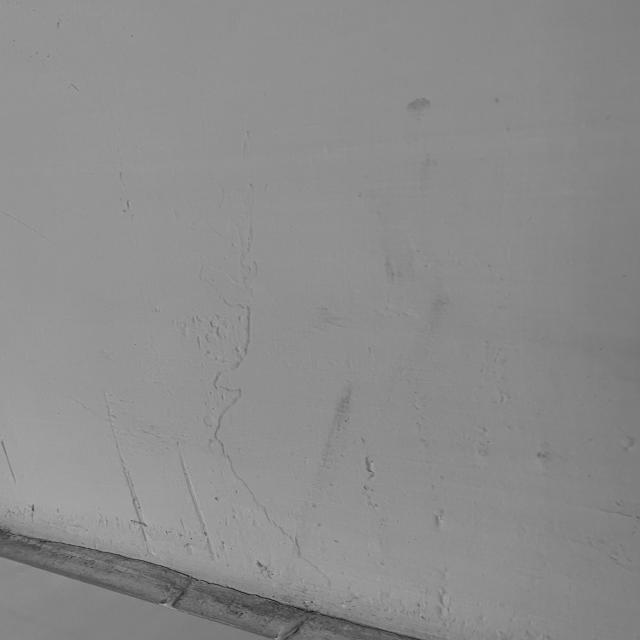rough and patchy surface: (23, 13, 616, 640)
